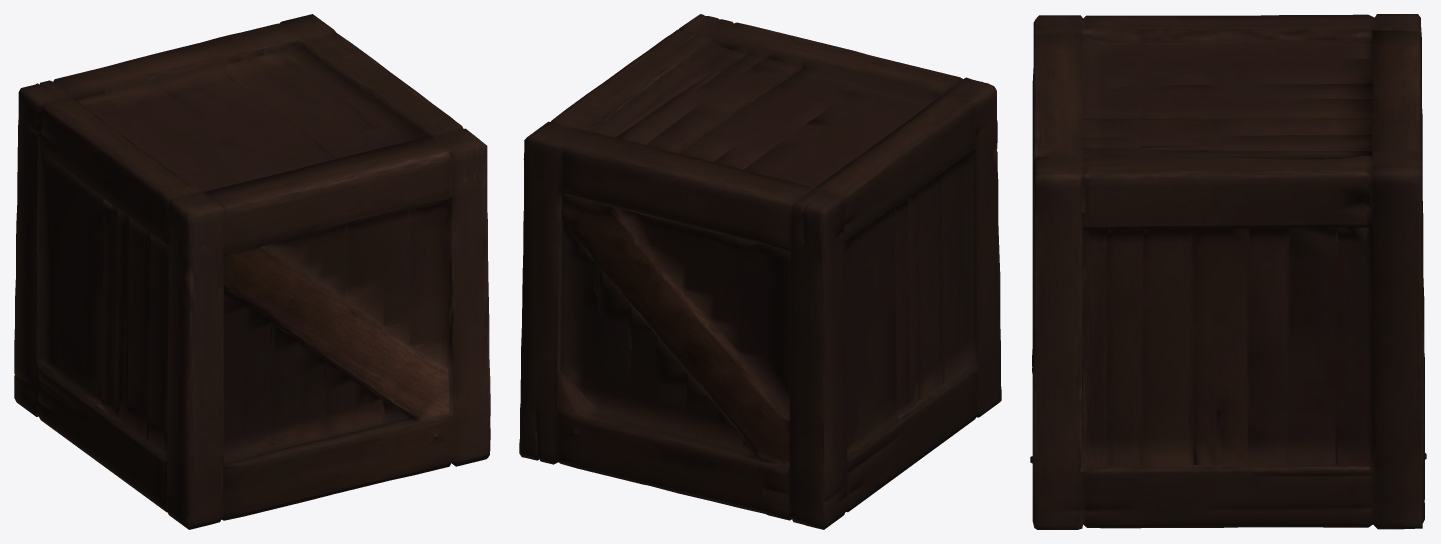
Rendered from prop_crate.glb.
3 renders of one model, left to right at view 1: azimuth 30°, elevation 25°; view 2: azimuth 150°, elevation 25°; view 3: azimuth 270°, elevation 25°, orthographic. The views are drawn at different scales.
Parts seen in each view (by area): view 1: tripo_node_db626187-412c-42fd-84ca-4d69871212dd; view 2: tripo_node_db626187-412c-42fd-84ca-4d69871212dd; view 3: tripo_node_db626187-412c-42fd-84ca-4d69871212dd.
Part boxes in pixels (x1,y1,x2,y2): tripo_node_db626187-412c-42fd-84ca-4d69871212dd: (14, 14, 490, 529); tripo_node_db626187-412c-42fd-84ca-4d69871212dd: (519, 14, 1001, 529); tripo_node_db626187-412c-42fd-84ca-4d69871212dd: (1030, 14, 1426, 529).
Size of the model in its own units: 0.9922 by 0.9922 by 1.
Materials: 1 (1 with a texture image).
